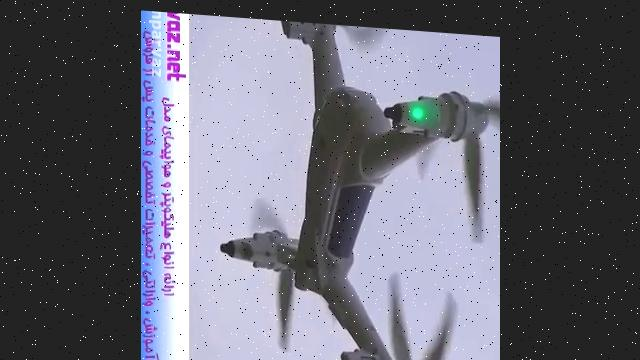drone: (216, 13, 499, 360)
